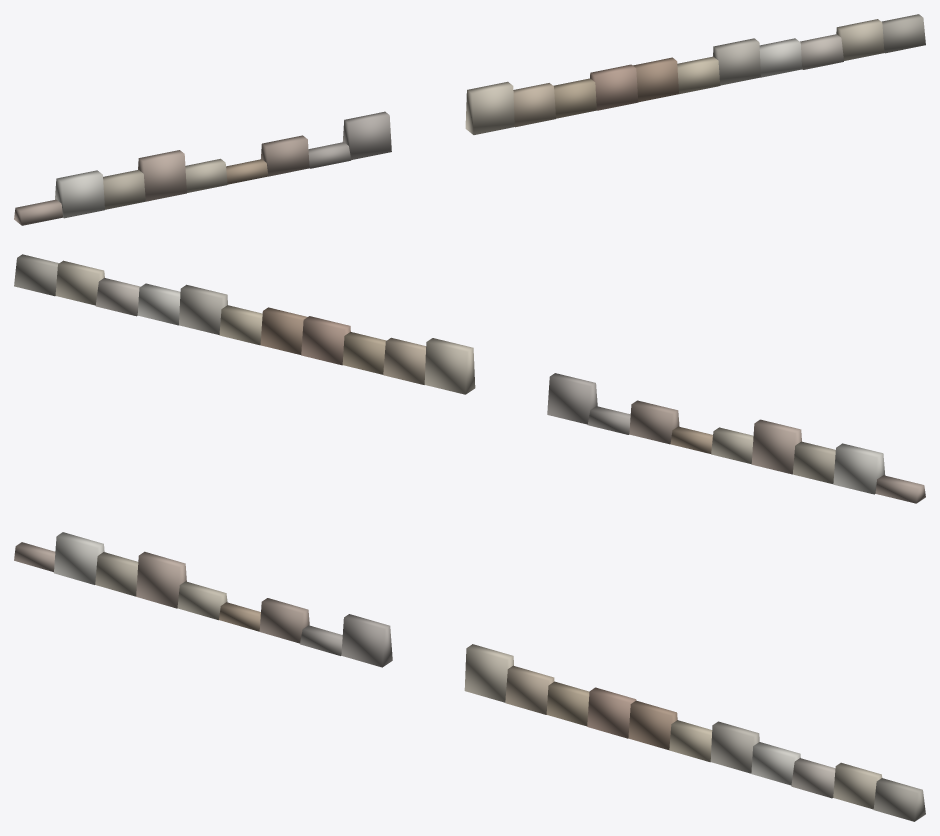
File: farm_12_19_collision.glb
3 renders of one model, top to bottom at view 1: azimuth 30°, elevation 25°; view 2: azimuth 150°, elevation 25°; view 3: azimuth 330°, elevation 25°, orthographic. The views are drawn at different scales.
Visible parts, largest first — view 1: geometry_0; view 2: geometry_0; view 3: geometry_0.
Part boxes in pixels (left/top/right/bottom): geometry_0: left=14, top=14, right=925, bottom=225; geometry_0: left=14, top=254, right=925, bottom=503; geometry_0: left=14, top=532, right=925, bottom=821.
Bounding box in the file's own units: 34.85 × 2.09 × 1.95.
